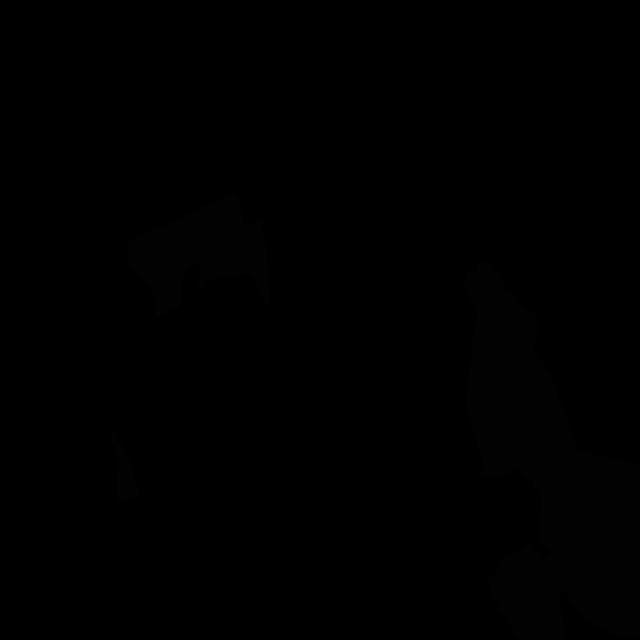cardboard: (486, 444, 640, 640), (464, 260, 578, 483), (125, 193, 270, 318), (110, 429, 140, 502)
